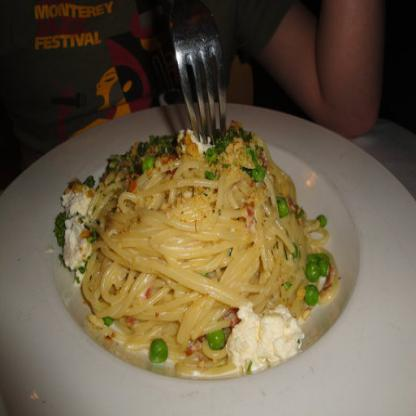pasta: (67, 120, 325, 370)
